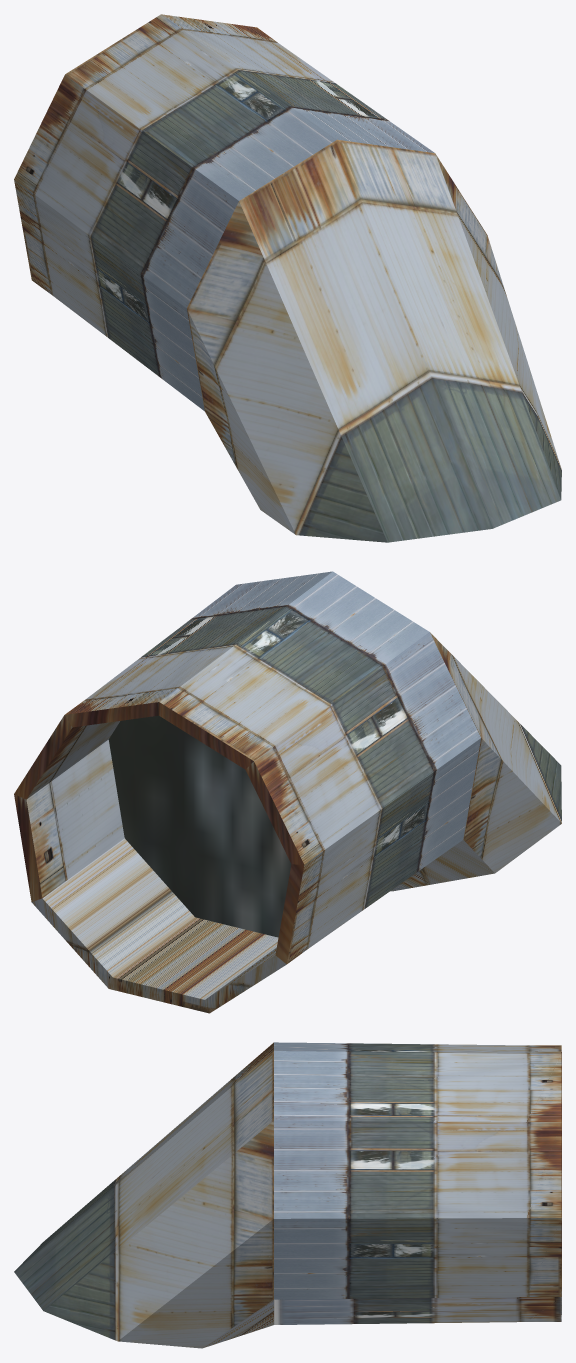
File: tunnel.fbx
3 views of the same model, one above another, from view 1: azimuth 30°, elevation 25°; view 2: azimuth 150°, elevation 25°; view 3: azimuth 270°, elevation 25° (orthographic). The views are drawn at different scales.
Visible parts, largest first — view 1: Cylinder; view 2: Cylinder; view 3: Cylinder.
Boxes of the visible parts, x1,y1,x2,y2 form: Cylinder: [14, 14, 561, 542]; Cylinder: [14, 571, 561, 1013]; Cylinder: [14, 1042, 561, 1348].
Size of the model in its own units: 548 by 556 by 1058.
